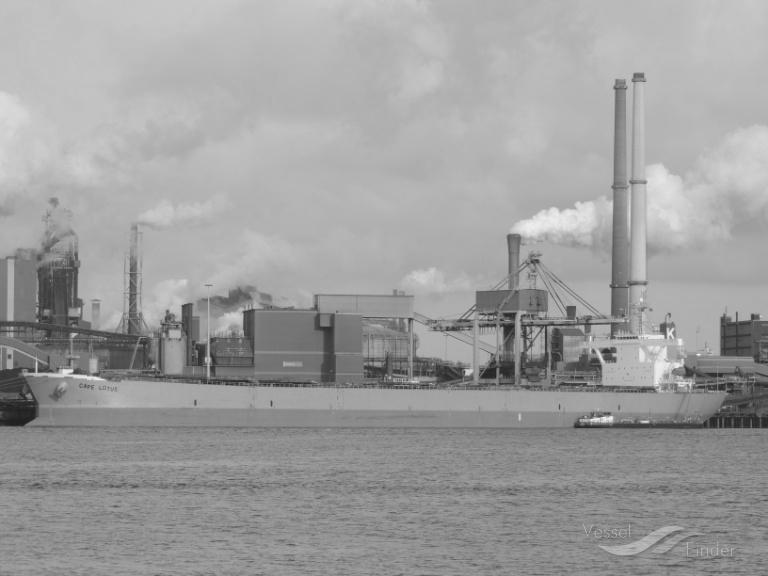OCR: (78, 373, 122, 394)
